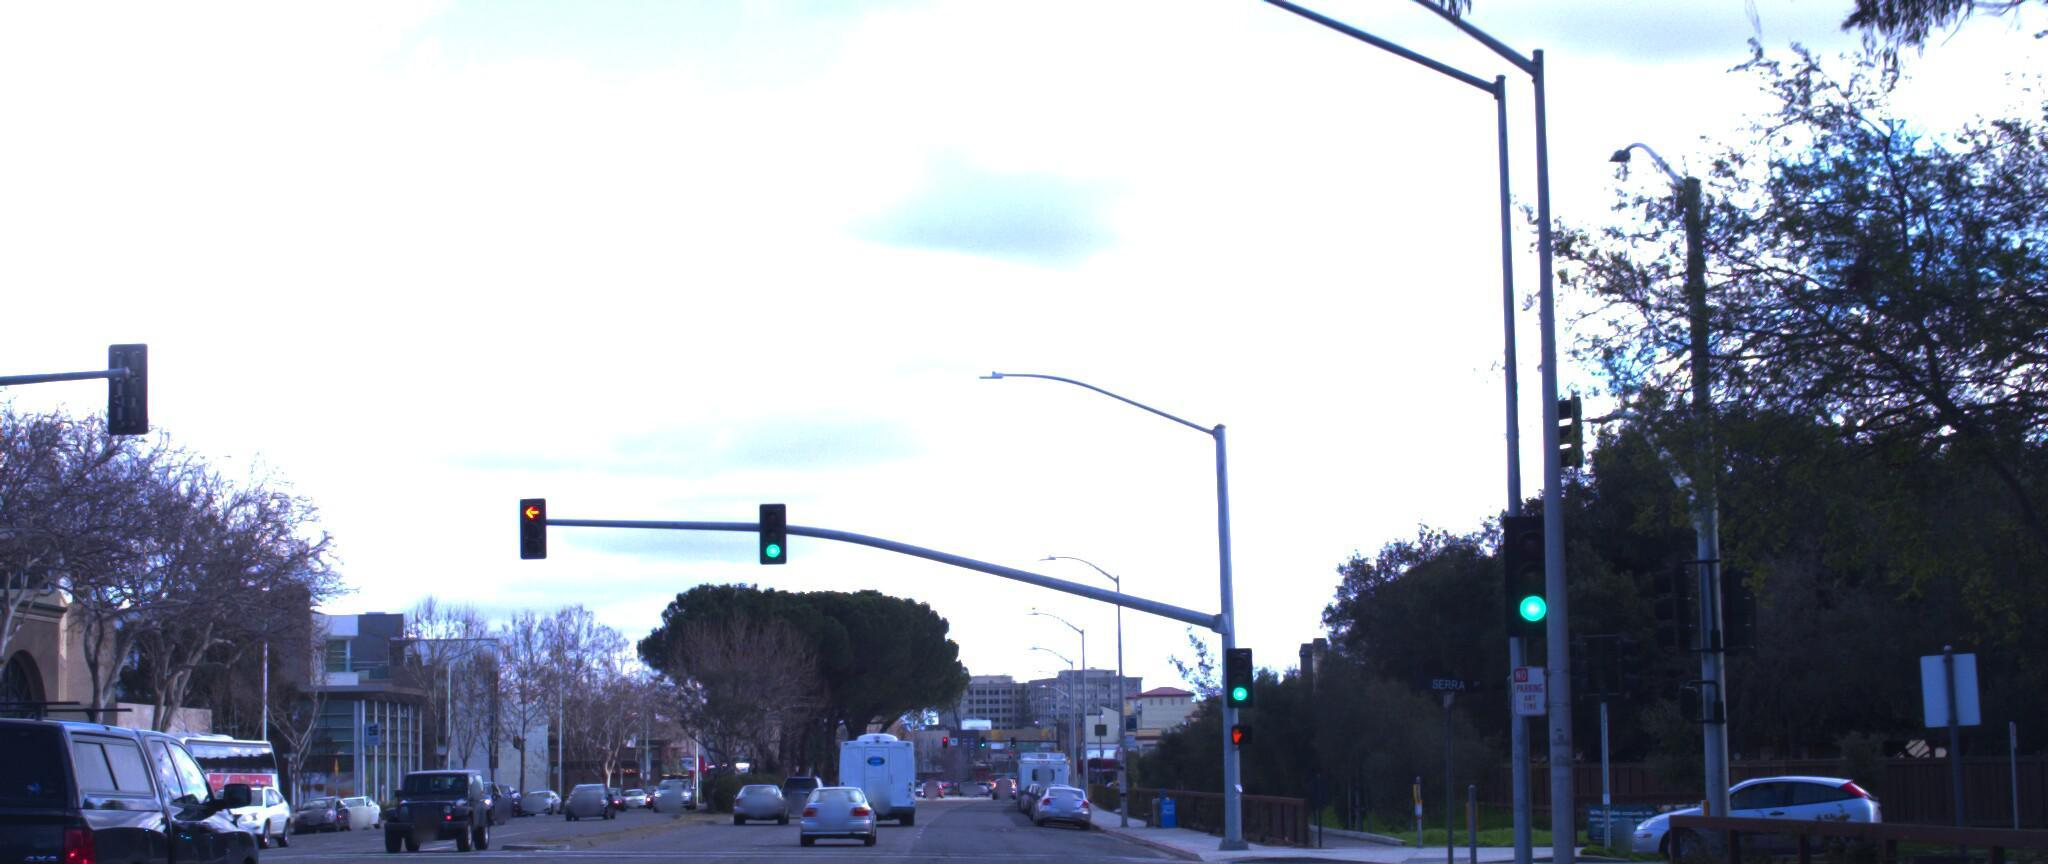car: (0, 687, 294, 864), (1610, 760, 1878, 852), (0, 745, 84, 864), (383, 750, 498, 837), (199, 766, 317, 835), (805, 766, 889, 837)
